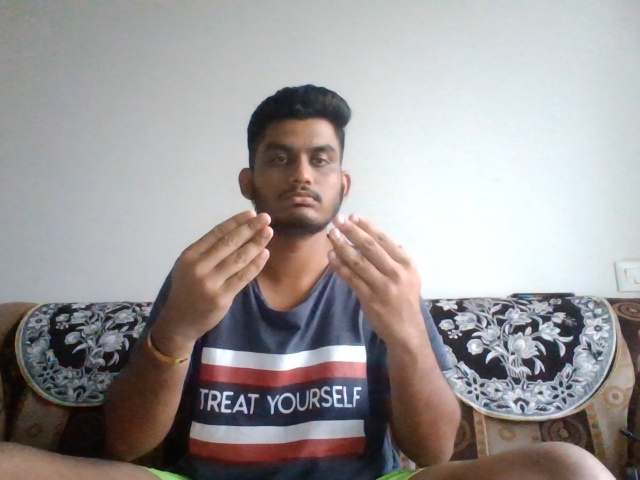Thank You: (157, 208, 429, 344)
